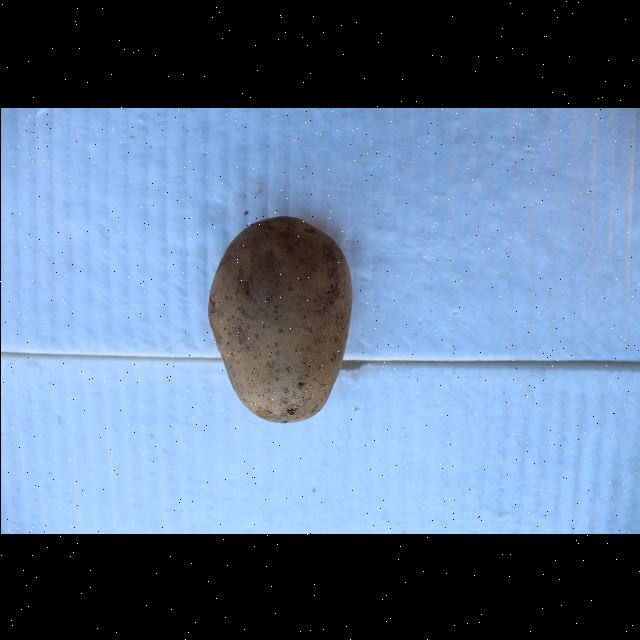Diseased-fungal potato: (205, 212, 358, 434)
